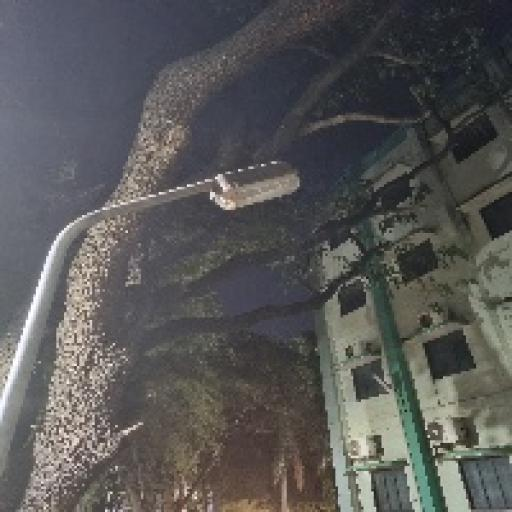Not Working: (196, 146, 314, 226)
